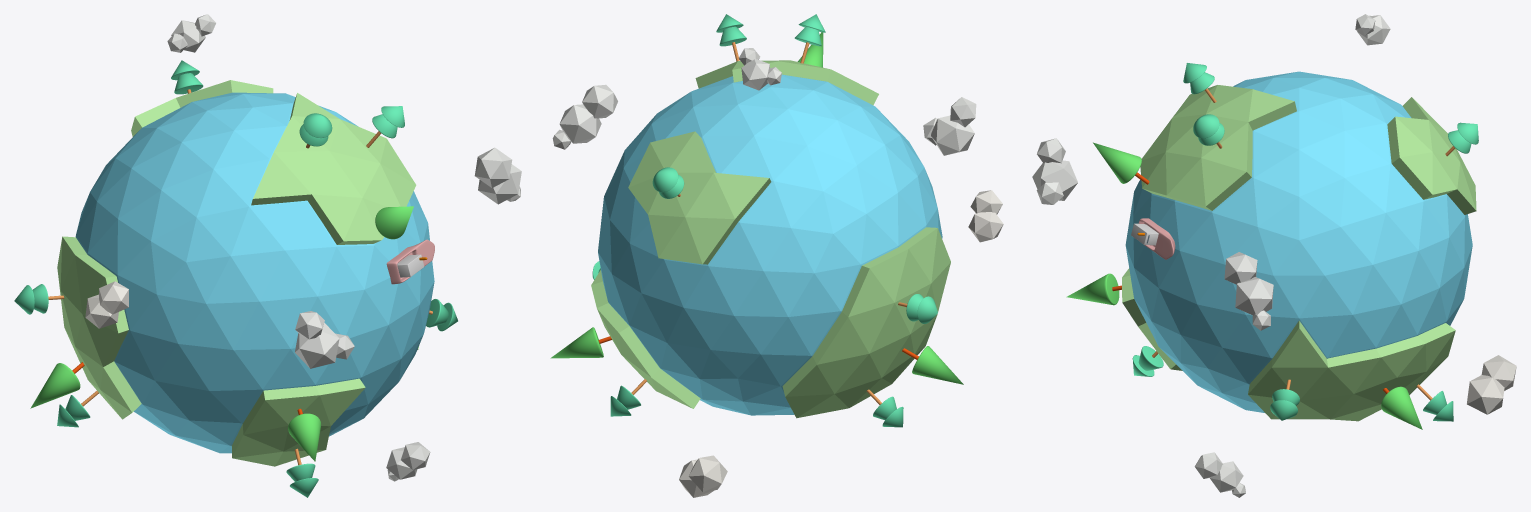
Rendered from earth.glb.
3 renders of one model, left to right at view 1: azimuth 30°, elevation 25°; view 2: azimuth 150°, elevation 25°; view 3: azimuth 270°, elevation 25°, orthographic. The views are drawn at different scales.
Visible parts, largest first — view 1: center, Icosphere, Icosphere.003, Icosphere.005, Icosphere.012, Cube.003, Icosphere.013, Icosphere.010, Cylinder.012, Cylinder.011, Cylinder.002, Cylinder.004 (+6 smaller); view 2: center, Icosphere, Icosphere.005, Icosphere.003, Icosphere.009, Icosphere.012, Icosphere.010, Cylinder.012, Cylinder.013, Cylinder.009, Cylinder.008, Cylinder.007 (+3 smaller); view 3: center, Icosphere, Icosphere.005, Icosphere.003, Icosphere.009, Icosphere.013, Cube.003, Cylinder.002, Cylinder.011, Cylinder.013, Icosphere.010, Cylinder (+5 smaller).
Boxes of the visible parts, bbox=[...] form: center: bbox=[75, 92, 434, 453]; Icosphere: bbox=[57, 80, 418, 466]; Icosphere.003: bbox=[295, 311, 354, 368]; Icosphere.005: bbox=[474, 147, 521, 204]; Icosphere.012: bbox=[85, 281, 128, 328]; Cube.003: bbox=[386, 239, 434, 284]; Icosphere.013: bbox=[386, 442, 430, 481]; Icosphere.010: bbox=[167, 14, 215, 52]; Cylinder.012: bbox=[30, 362, 84, 408]; Cylinder.011: bbox=[288, 408, 320, 461]; Cylinder.002: bbox=[375, 206, 413, 239]; Cylinder.004: bbox=[299, 113, 332, 148]; center: bbox=[598, 74, 942, 415]; Icosphere: bbox=[591, 60, 950, 418]; Icosphere.005: bbox=[552, 84, 617, 149]; Icosphere.003: bbox=[923, 97, 976, 155]; Icosphere.009: bbox=[679, 455, 727, 497]; Icosphere.012: bbox=[968, 190, 1003, 242]; Icosphere.010: bbox=[738, 48, 781, 90]; Cylinder.012: bbox=[902, 346, 963, 384]; Cylinder.013: bbox=[550, 327, 611, 358]; Cylinder.009: bbox=[652, 167, 684, 198]; Cylinder.008: bbox=[898, 294, 937, 323]; Cylinder.007: bbox=[866, 389, 903, 427]; center: bbox=[1125, 71, 1472, 412]; Icosphere: bbox=[1122, 85, 1476, 421]; Icosphere.005: bbox=[1224, 252, 1273, 330]; Icosphere.003: bbox=[1032, 138, 1077, 204]; Icosphere.009: bbox=[1467, 355, 1516, 414]; Icosphere.013: bbox=[1194, 452, 1245, 497]; Cube.003: bbox=[1131, 218, 1175, 259]; Cylinder.002: bbox=[1093, 142, 1149, 184]; Cylinder.011: bbox=[1066, 273, 1121, 305]; Cylinder.013: bbox=[1381, 386, 1422, 429]; Icosphere.010: bbox=[1355, 14, 1390, 45]; Cylinder: bbox=[1193, 114, 1224, 148].
Bounding box in the file's own units: 6.3 × 5.81 × 6.02.
